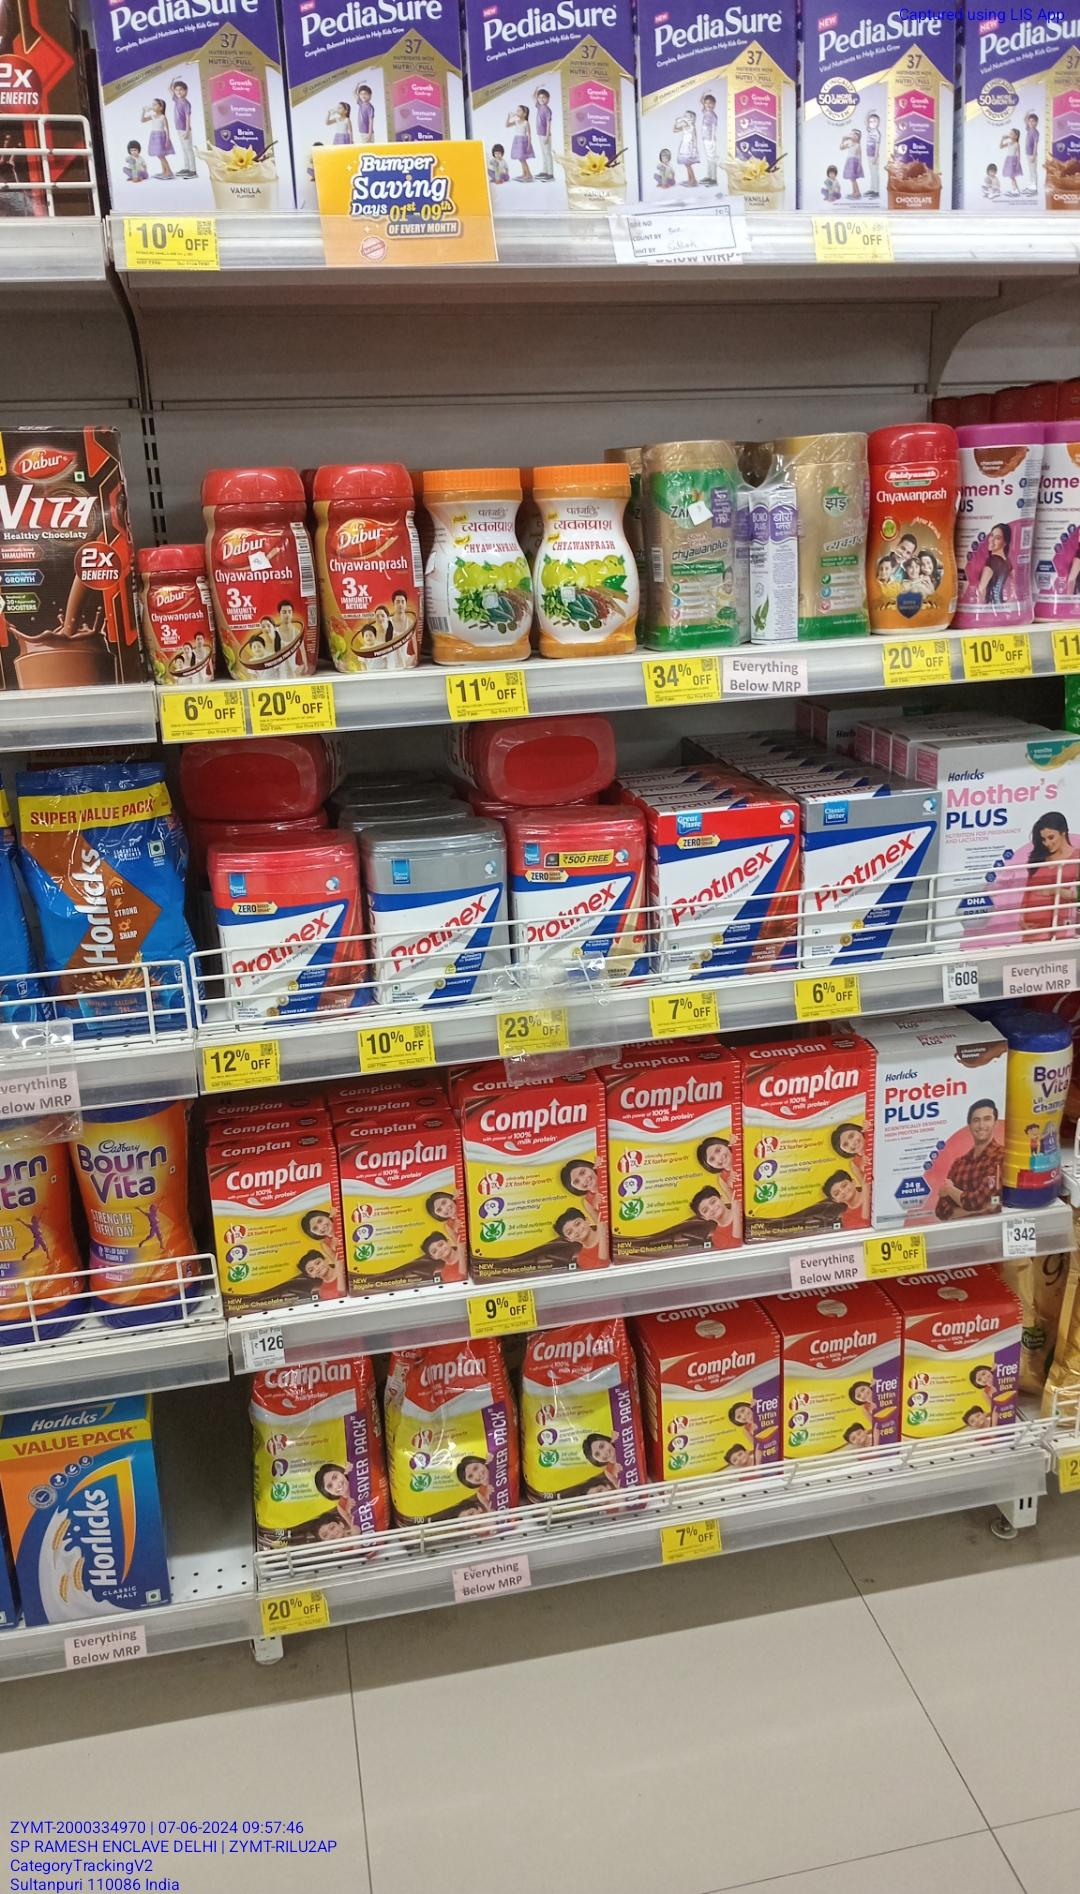BOURN_VITA_500_G_JAR: (69, 1099, 186, 1328)
BOURN_VITA_CHAMPS_500_G_JAR: (1010, 1026, 1080, 1208)
COMPLAN_CHOCOLATE_200_GMS_PACK: (215, 1154, 337, 1313), (341, 1138, 465, 1293)
COMPLAN_CHOCOLATE_500_GMS_PACK: (468, 1093, 606, 1280), (612, 1068, 743, 1259), (743, 1058, 872, 1238)
COMPLAN_RC_POUCH_700_GMS_12: (394, 1340, 511, 1540), (255, 1361, 368, 1558), (520, 1326, 632, 1517)
HORLICK_CHOCOLATE_750_G_POUCH: (34, 778, 186, 1042)
HORLICK_CLASSIC_MALT_500_G_PACK: (9, 1436, 156, 1627)
PEDIASURE_CHOCOLATE_500_G_PACK: (802, 1, 951, 213), (968, 3, 1080, 209)
PEDIASURE_VANILLA_500_G_PACK: (98, 0, 280, 216), (474, 0, 636, 213), (640, 3, 790, 211), (285, 0, 463, 152)
PROTINEX_CHOCOLATE_400_G_JAR: (220, 853, 364, 1029)
PROTINEX_ORIGINAL_400_G_JAR: (376, 838, 504, 1017)
PROTINEX_VANILLA_400_G_JAR: (515, 822, 645, 989)
